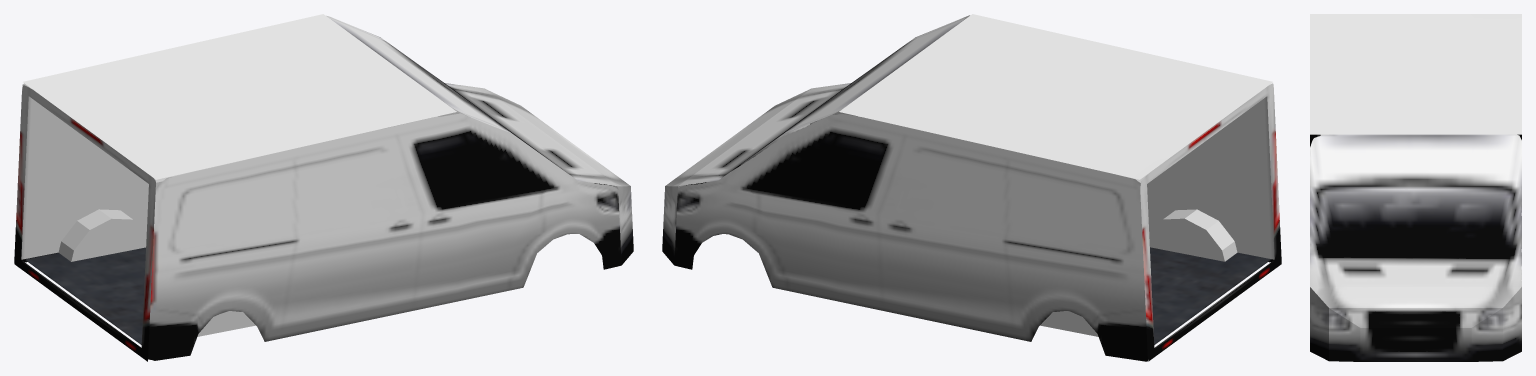
File: van_v1_low_ploy_with_vpaint.fbx
The picture shows the model from 3 angles, left to right: view 1: azimuth 30°, elevation 25°; view 2: azimuth 150°, elevation 25°; view 3: azimuth 270°, elevation 25°; orthographic projection. The views are drawn at different scales.
Visible parts, largest first — view 1: Van_V1; view 2: Van_V1; view 3: Van_V1.
Part boxes in pixels (bbox=[...]): Van_V1: bbox=[14, 14, 633, 361]; Van_V1: bbox=[662, 14, 1281, 361]; Van_V1: bbox=[1310, 14, 1521, 361].
Size of the model in its own units: 869 by 329 by 400.
